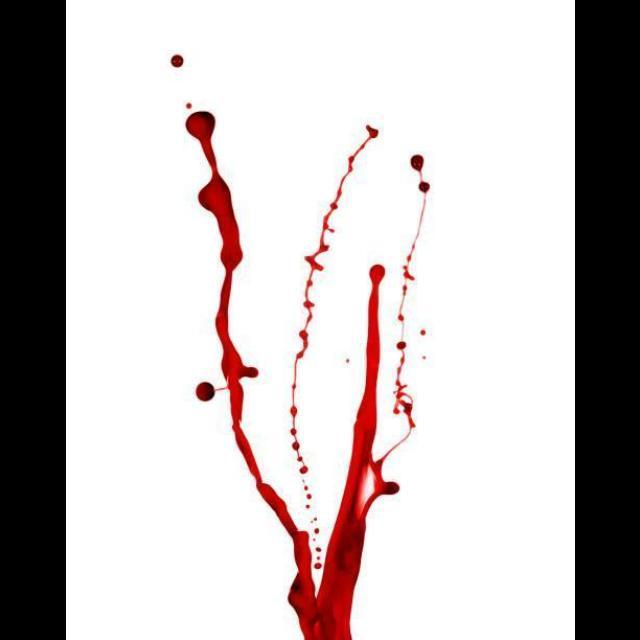blood: (185, 112, 399, 639), (288, 124, 379, 525), (381, 154, 430, 460), (195, 383, 226, 402), (170, 55, 181, 66)
